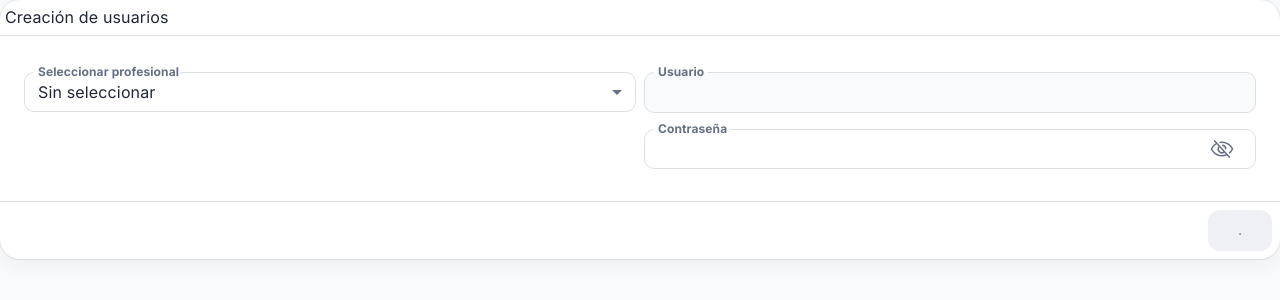
Test: FormularioCrearUsuarios › crea credenciales para un profesional que no tiene
Click the dropdown labelled "Sin seleccionar": (97, 92) [38,82,156,102]
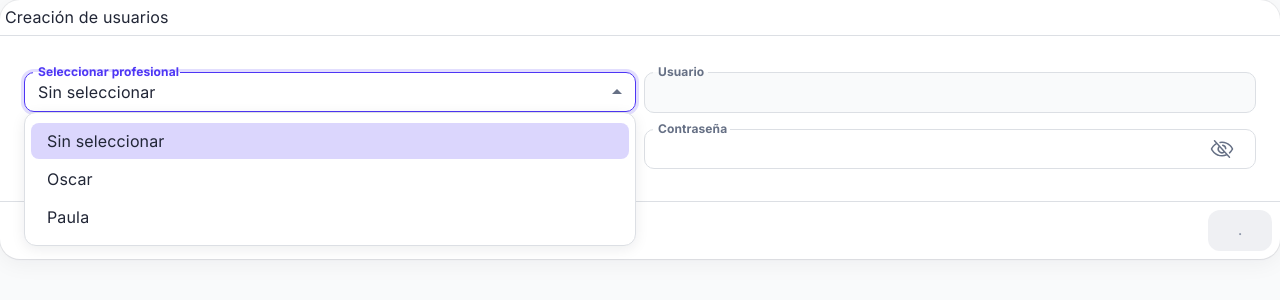
Click the option "Paula": (68, 217) [47,207,89,227]
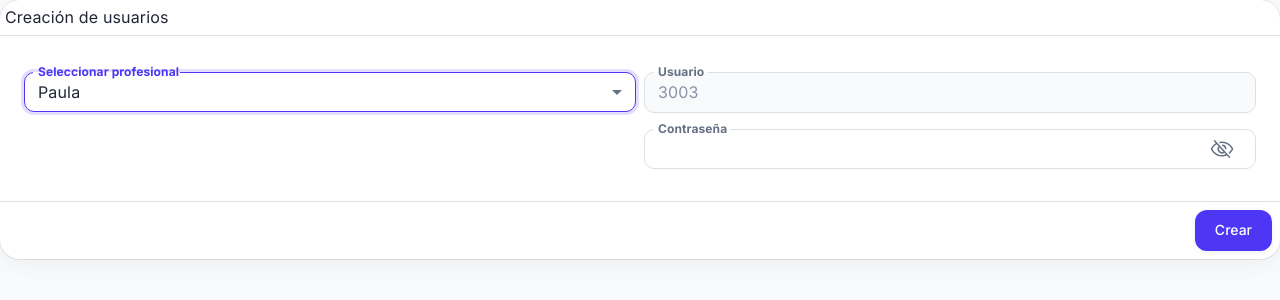
Result: the list is gone
Result: the button "Crear" is enabled
Result: the field labelled "Usuario" holds "3003" at [644,73,1201,113]
Click the button "Crear": (1233, 230) [1195,210,1272,251]
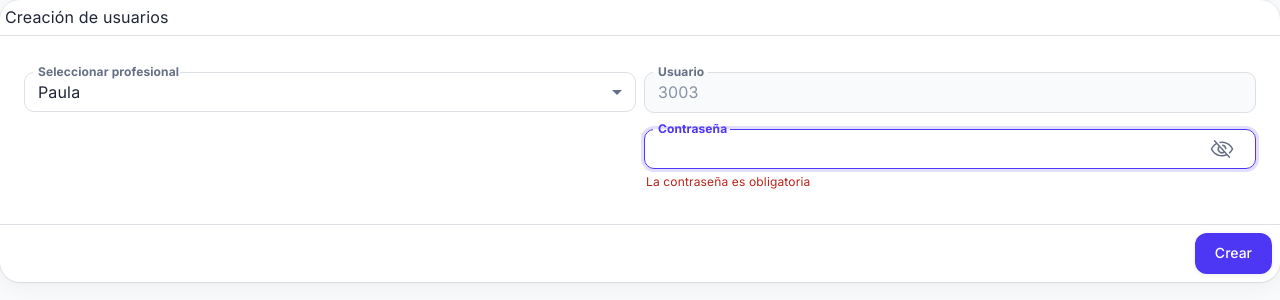
Result: the text "La contraseña es obligatoria" is shown at [646,174,810,189]
In the password field labelled "Contraseña": (923, 149) [644,129,1202,169], type "Clave123"
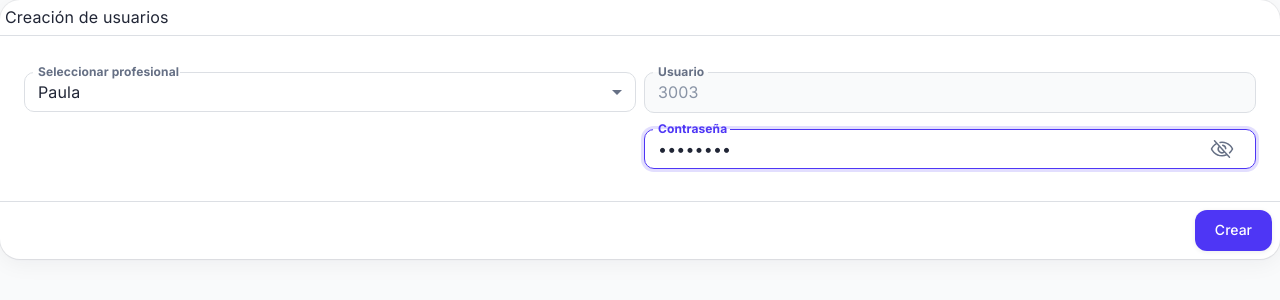
Click the button "Crear": (1233, 230) [1195,210,1272,251]
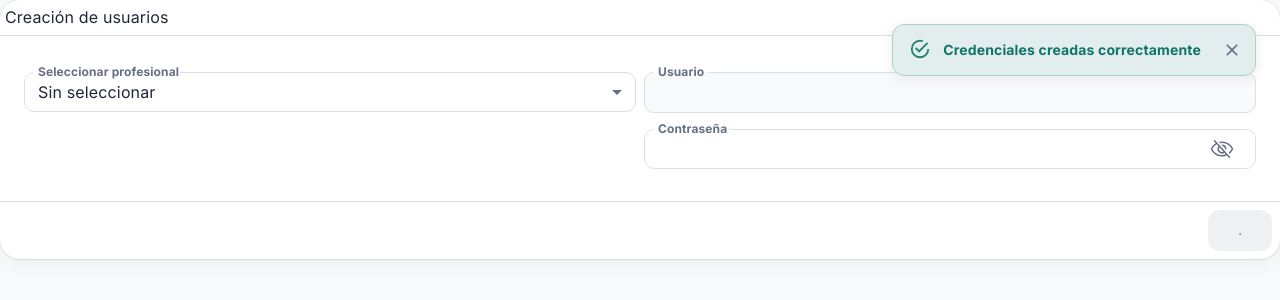
Result: the text "Credenciales creadas correctamente" is shown at [943,41,1201,58]
Result: the button "." is disabled at [1208,210,1272,251]
Result: the field labelled "Usuario" is empty at [644,73,1201,113]
